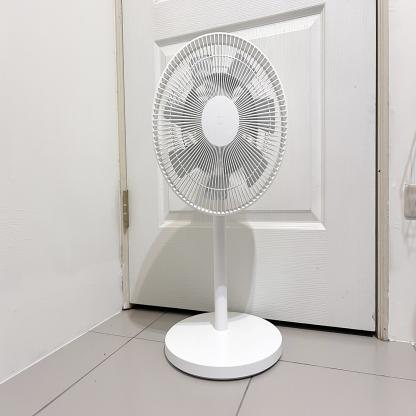fan: (151, 28, 293, 384)
